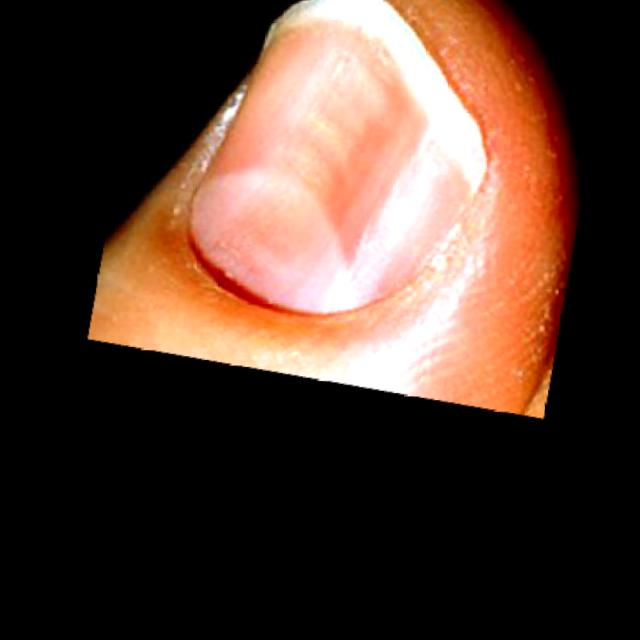Nail: (189, 0, 485, 316)
